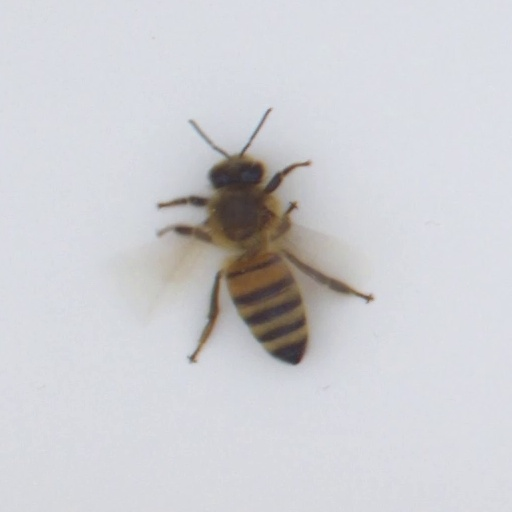Bee: (204, 153, 316, 357)
Thorax: (207, 188, 279, 245)
